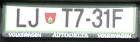-: (85, 18, 91, 22)
1: (104, 8, 110, 29)
3: (92, 8, 103, 29)
7: (74, 8, 84, 29)
F: (113, 8, 124, 29)
J: (28, 8, 39, 28)
L: (16, 8, 27, 29)
T: (61, 8, 73, 28)
